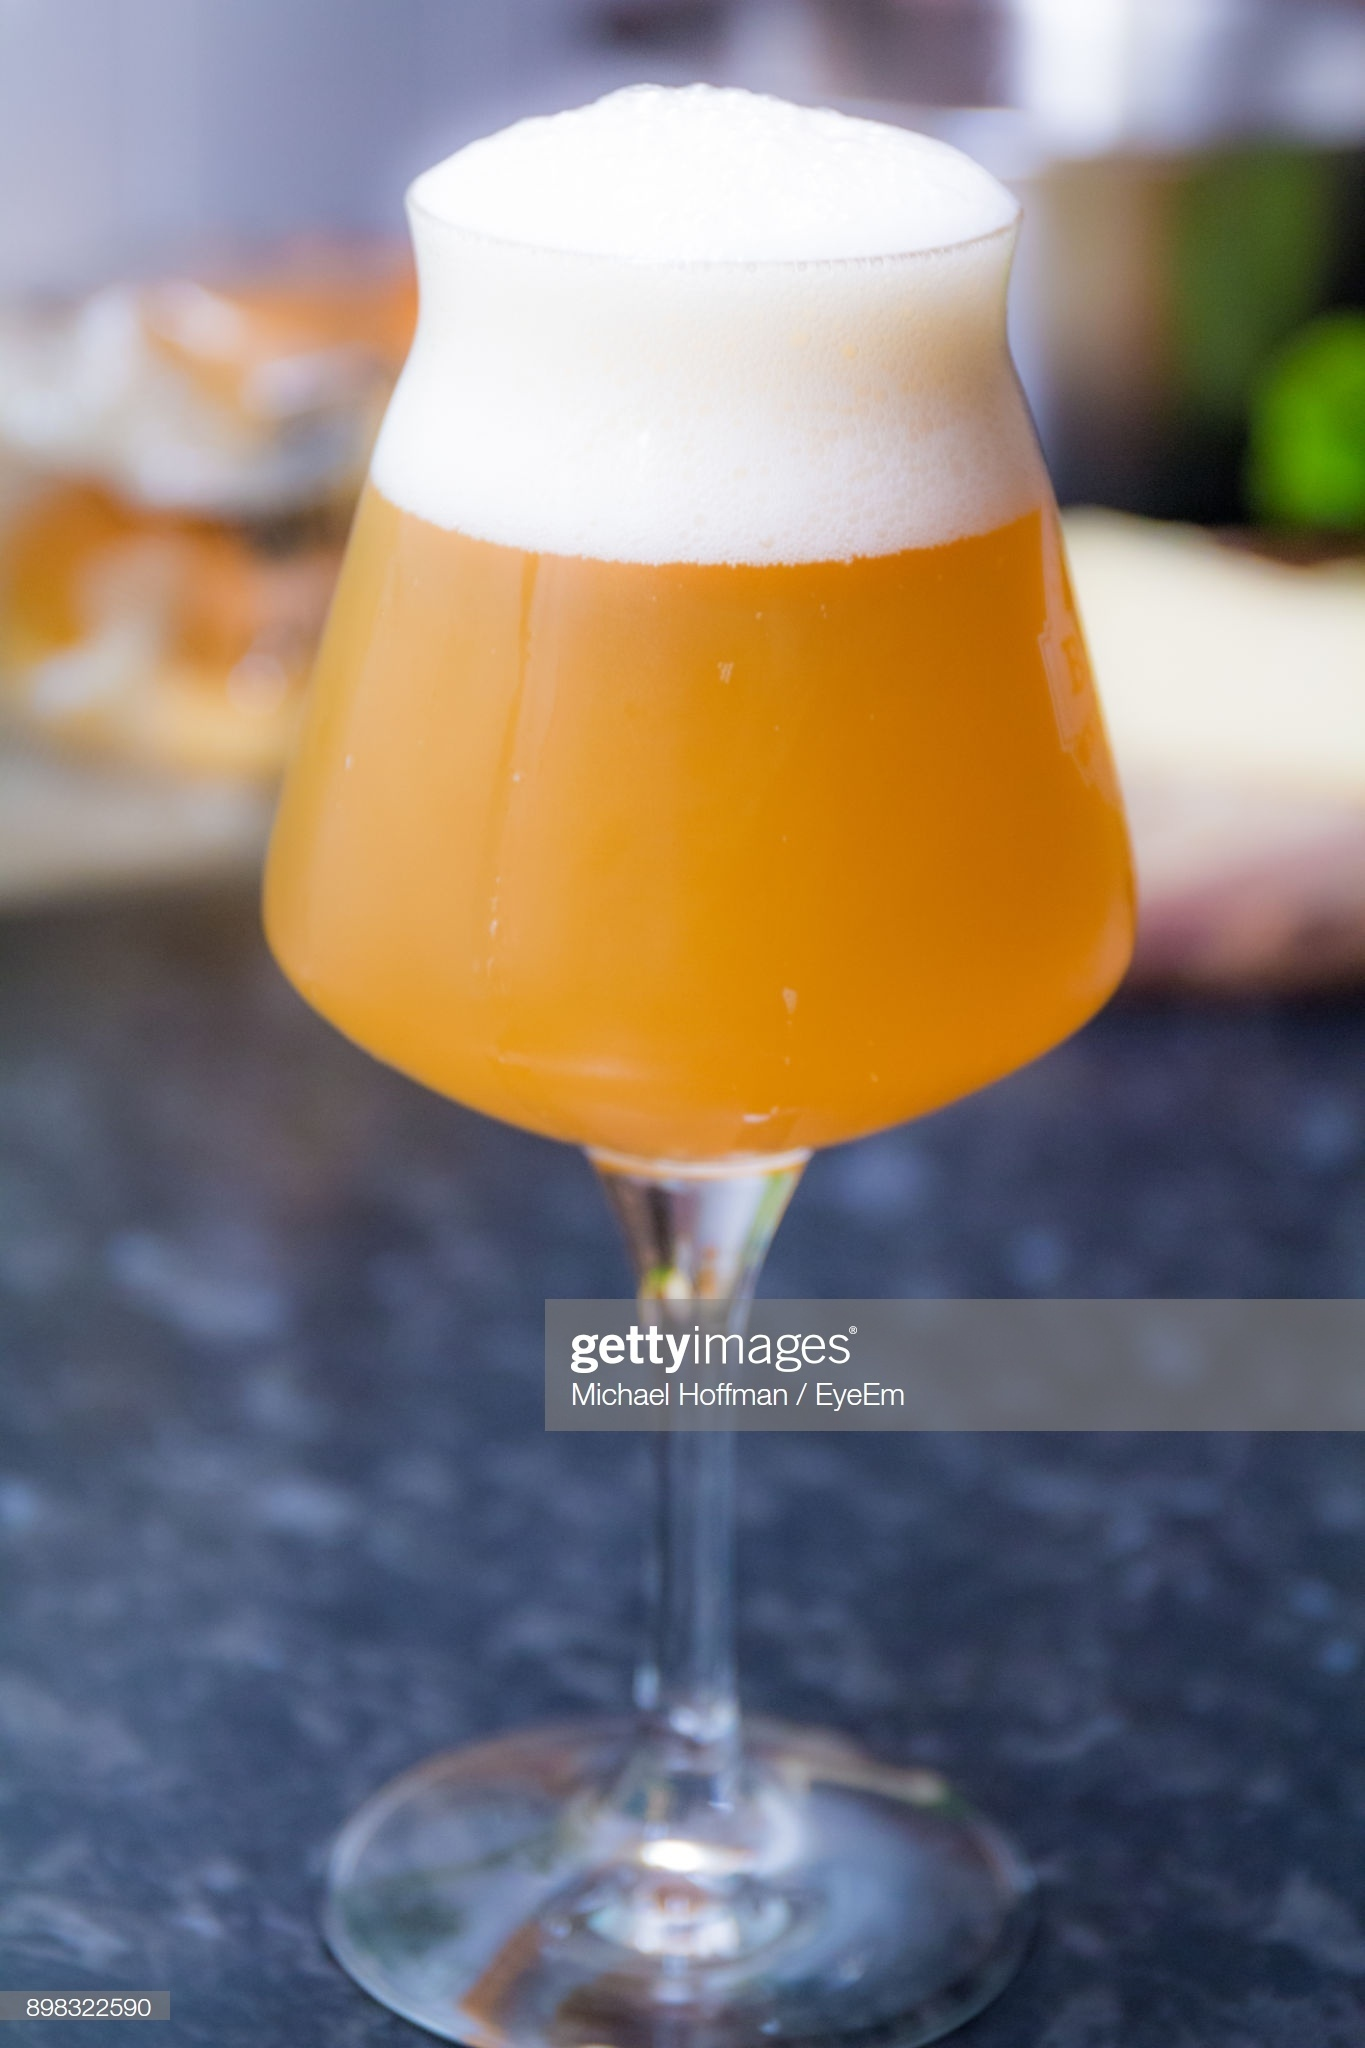whiskey: (292, 104, 1146, 1629)
